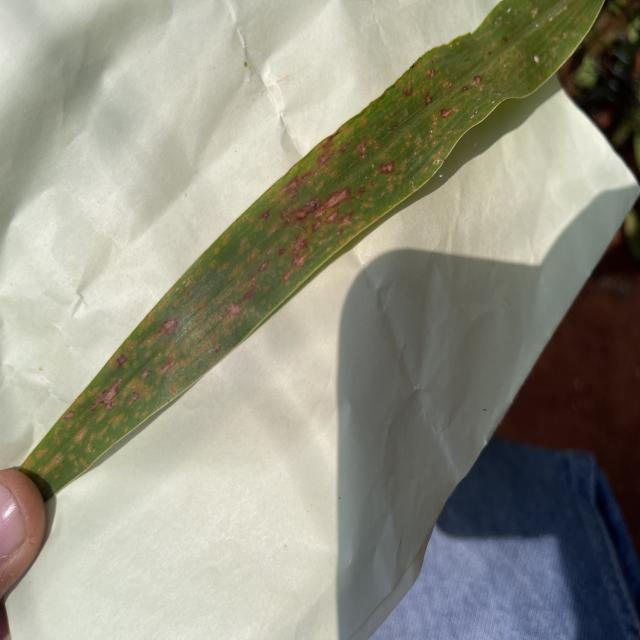millet_rust: (0, 0, 617, 463)
